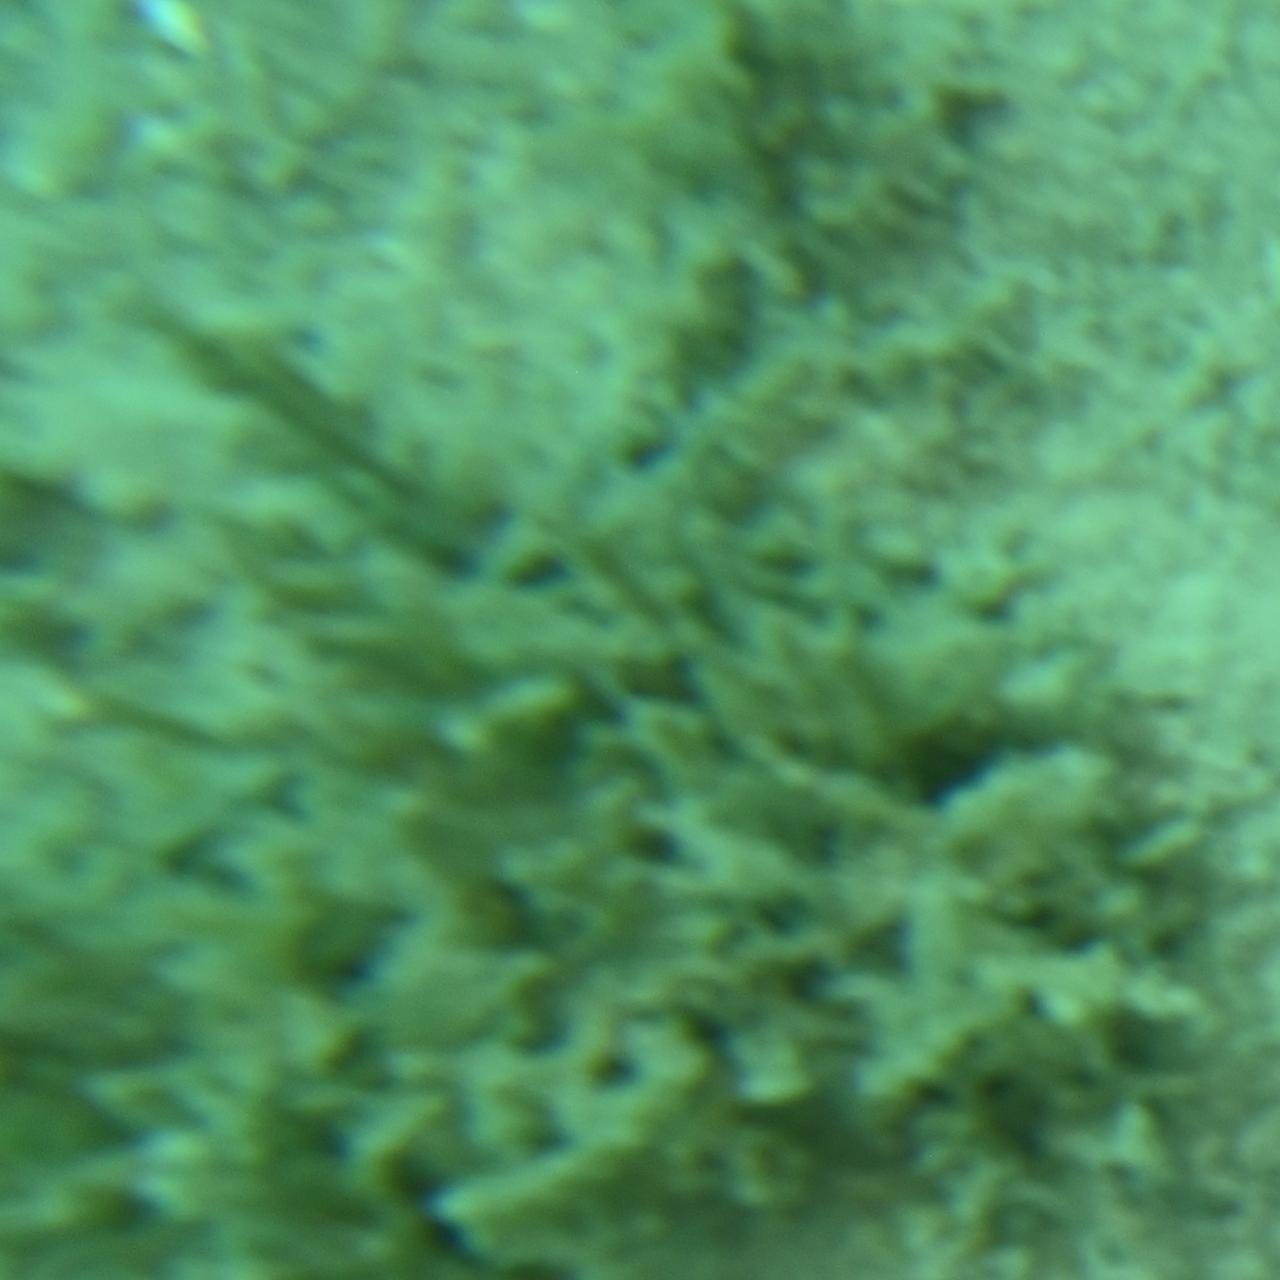Phaeophyceae -cfr Cystoseira-: (0, 0, 1257, 1280)
